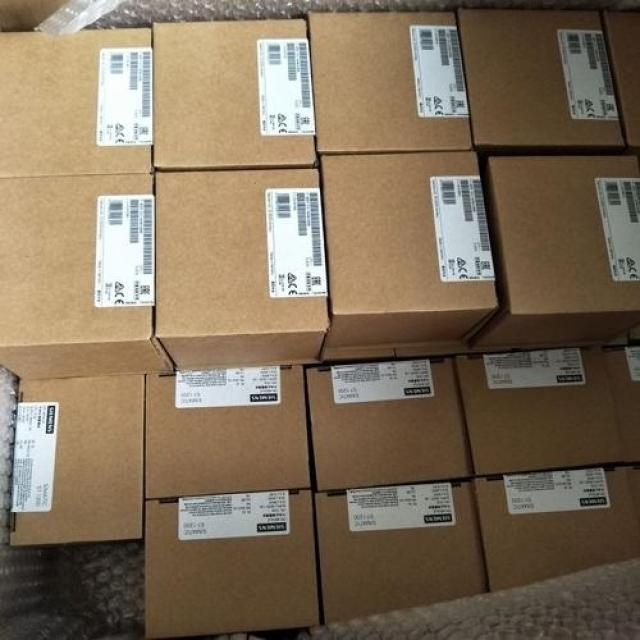Carton: (0, 19, 328, 343), (6, 372, 316, 632), (314, 468, 632, 620), (305, 348, 626, 488), (324, 150, 493, 310), (486, 154, 637, 315), (306, 12, 471, 150), (460, 10, 623, 145), (146, 367, 307, 497)
